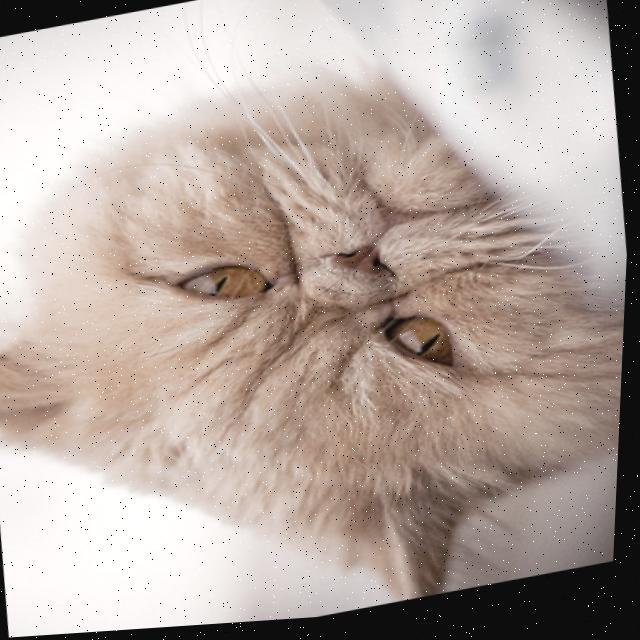Persian: (0, 30, 638, 640)
